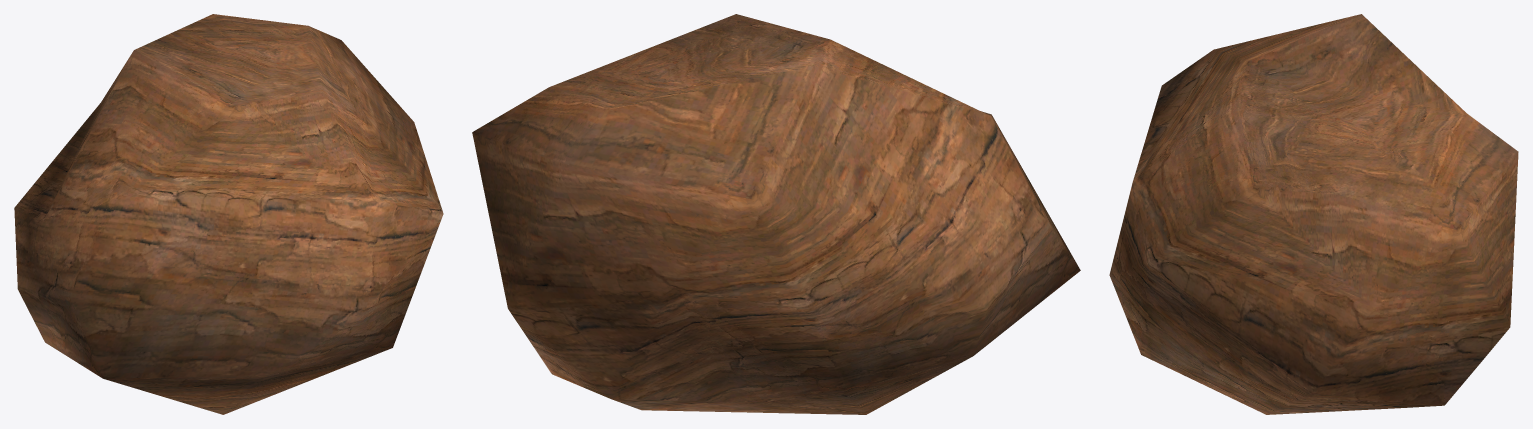
Rendered from rock_tatt_jundland_boulder_a1_l2.fbx.
3 renders of one model, left to right at view 1: azimuth 30°, elevation 25°; view 2: azimuth 150°, elevation 25°; view 3: azimuth 270°, elevation 25°, orthographic. The views are drawn at different scales.
Parts seen in each view (by area): view 1: mesh_node; view 2: mesh_node; view 3: mesh_node.
Boxes of the visible parts, box(x1,y1,x2,y2) form: mesh_node: box(14, 14, 443, 414); mesh_node: box(472, 14, 1080, 414); mesh_node: box(1109, 14, 1518, 414).
Size of the model in its own units: 3.33 by 2.45 by 2.72.
